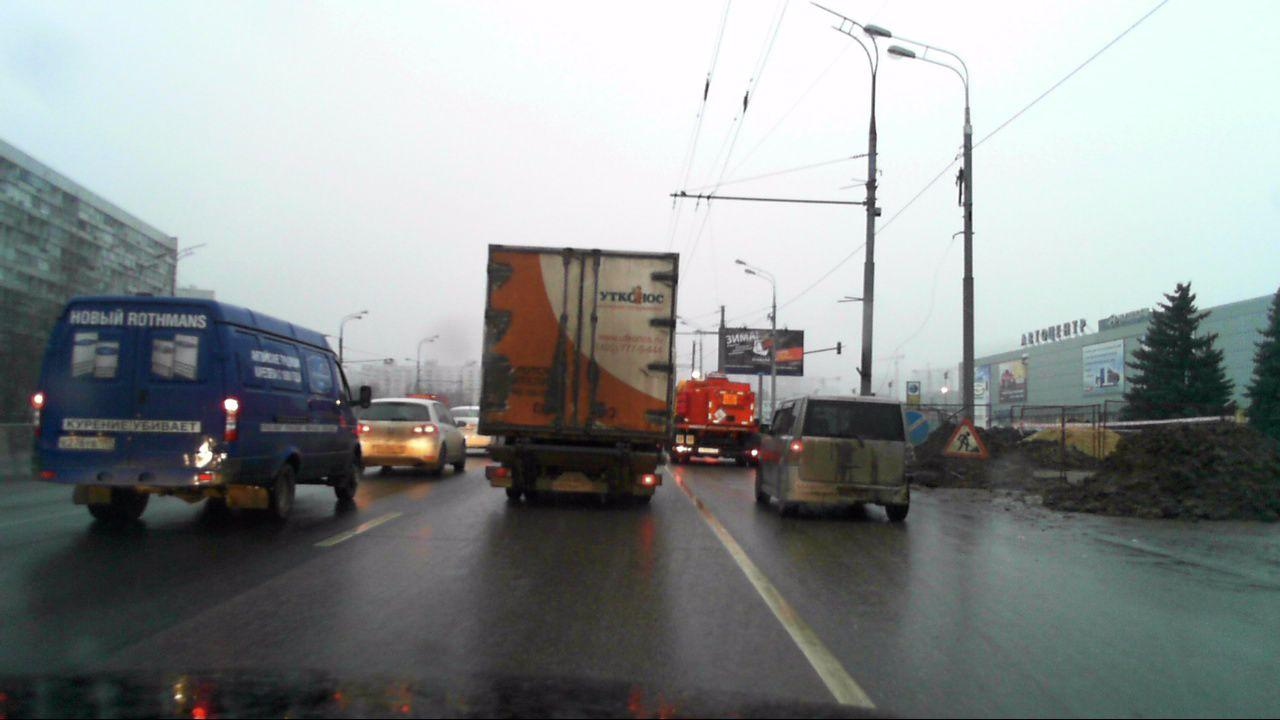road_sign: (940, 412, 991, 458)
